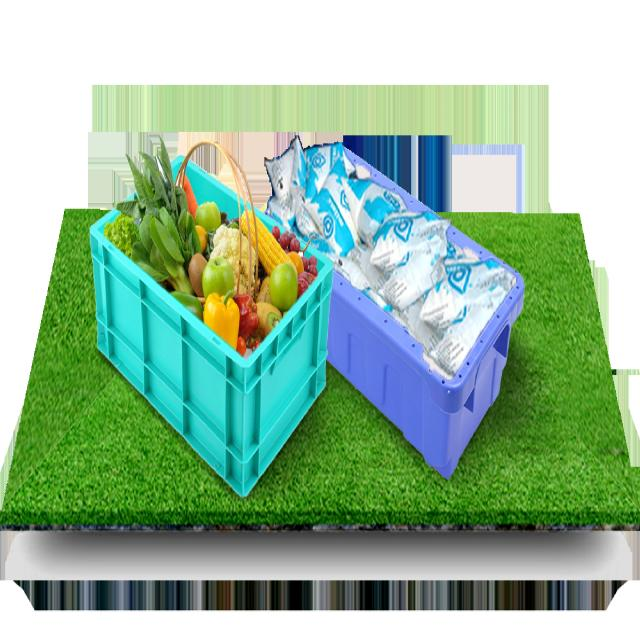basket: (46, 211, 349, 506), (328, 271, 524, 478)
